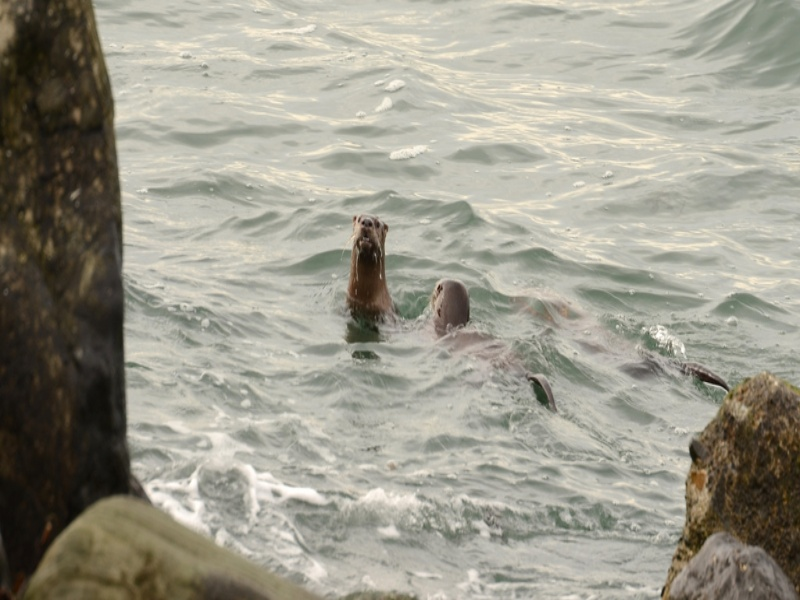minkish: (424, 270, 540, 416), (331, 219, 412, 342)
